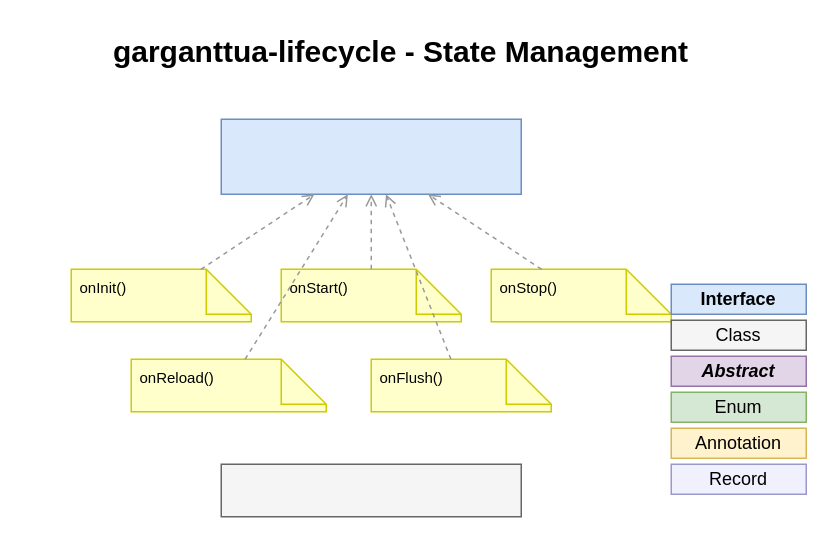
The diagram is 833 pixels wide and 543 high, and some of its shapes have lost their labels. The centre of each missing label's shape, as x and y in pixels:
ILifecycle: point (370, 156)
LifecycleException: point (370, 490)
